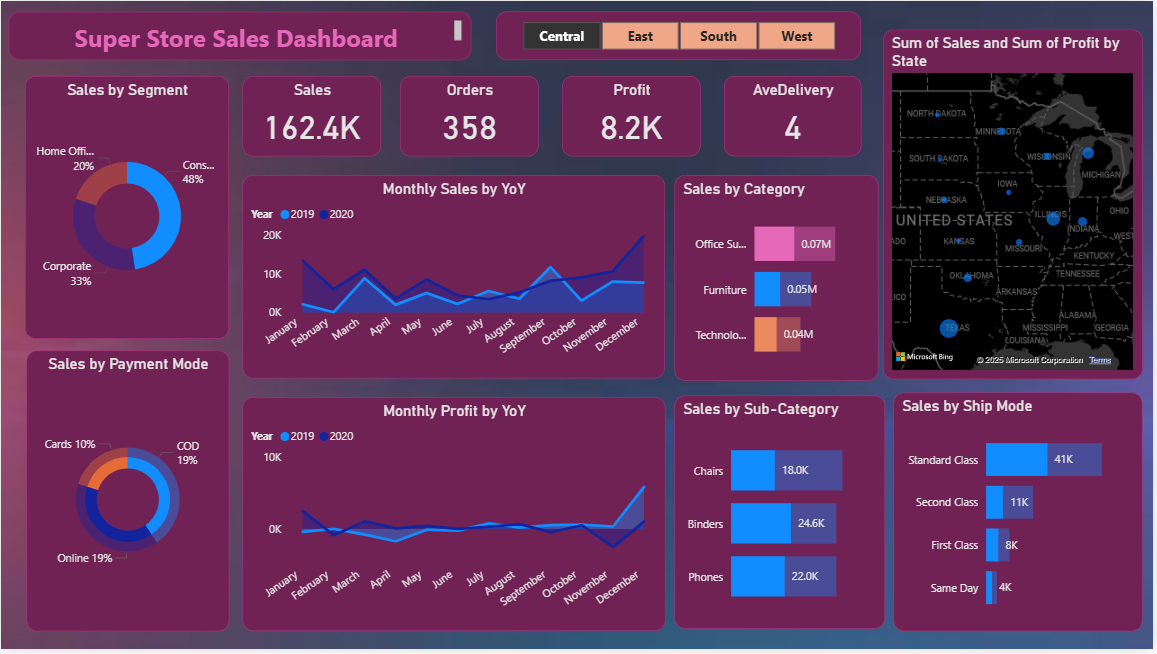

The page's visual inventory and layout, read from the dashboard file:
{"tool":"powerbi","page":{"name":"Page 1","canvas":[1280,720],"ordinal":0},"visuals":[{"type":"clusteredBarChart","title":"Sales by Category","fields":{"Category":["SuperStore_Sales.Category"],"Y":["Sum(SuperStore_Sales.Sales)"]},"box":[748.3,193.3,226.7,228.3],"z":0},{"type":"clusteredBarChart","title":"Sales by Sub-Category","fields":{"Category":["SuperStore_Sales.Sub-Category"],"Y":["Sum(SuperStore_Sales.Sales)"]},"box":[747.6,439,233.8,259.3],"z":1000},{"type":"clusteredBarChart","title":"Sales by Ship Mode","fields":{"Y":["Sum(SuperStore_Sales.Sales)"],"Category":["SuperStore_Sales.Ship Mode"]},"box":[991,434.2,276.8,265.6],"z":2000},{"type":"areaChart","title":"Monthly Sales by YoY","fields":{"Y":["Sum(SuperStore_Sales.Sales)"],"Series":["SuperStore_Sales.Order Date.Variation.Date Hierarchy.Year"],"Category":["SuperStore_Sales.Order Date.Variation.Date Hierarchy.Month","SuperStore_Sales.Order Date.Variation.Date Hierarchy.Day"]},"box":[268.8,194.1,469.2,225.9],"z":3000},{"type":"areaChart","title":"Monthly Profit by YoY","fields":{"Series":["SuperStore_Sales.Order Date.Variation.Date Hierarchy.Year"],"Category":["SuperStore_Sales.Order Date.Variation.Date Hierarchy.Month","SuperStore_Sales.Order Date.Variation.Date Hierarchy.Day"],"Y":["Sum(SuperStore_Sales.Profit)"]},"box":[268.3,440,470,260],"z":4000},{"type":"map","fields":{"Category":["SuperStore_Sales.State"],"Size":["Sum(SuperStore_Sales.Sales)"]},"box":[980,31.7,288.3,388.3],"z":5000},{"type":"donutChart","title":"Sales by Segment","fields":{"Category":["SuperStore_Sales.Segment"],"Y":["Sum(SuperStore_Sales.Sales)"]},"box":[26.7,83.3,226.7,291.7],"z":6000},{"type":"donutChart","title":"Sales by Payment Mode","fields":{"Y":["Sum(SuperStore_Sales.Sales)"],"Category":["SuperStore_Sales.Payment Mode"]},"box":[28.3,388.3,225,311.7],"z":7000},{"type":"slicer","fields":{"Values":["SuperStore_Sales.Region"]},"box":[550.4,11.1,405.6,54.1],"z":8000},{"type":"textbox","box":[8,11.1,513.8,54.1],"z":9000},{"type":"card","title":"Sales","fields":{"Values":["Sum(SuperStore_Sales.Sales)"]},"box":[268.8,82.7,154.3,89.1],"z":10000},{"type":"card","title":"Orders","fields":{"Values":["Count(SuperStore_Sales.Order ID)"]},"box":[443.8,82.7,154.3,89.1],"z":11000},{"type":"card","title":"Profit","fields":{"Values":["Sum(SuperStore_Sales.Profit)"]},"box":[623.5,82.7,154.3,89.1],"z":12000},{"type":"card","title":"AveDelivery","fields":{"Values":["Avg(SuperStore_Sales.AveDelivery)"]},"box":[803.3,82.7,152.7,89.1],"z":13000}]}

Visuals, with their boxes in screenshot pixels (x1, y1, x2, y2), scaled from the page's 1280x720 canvas onto the 1157x654 screenshot:
"Sales by Category" clusteredBarChart: <region>676, 176, 881, 383</region>
"Sales by Sub-Category" clusteredBarChart: <region>676, 399, 887, 634</region>
"Sales by Ship Mode" clusteredBarChart: <region>896, 394, 1146, 636</region>
"Monthly Sales by YoY" areaChart: <region>243, 176, 667, 382</region>
"Monthly Profit by YoY" areaChart: <region>243, 400, 667, 636</region>
map - SuperStore_Sales.State x Sum(SuperStore_Sales.Sales): <region>886, 29, 1146, 382</region>
"Sales by Segment" donutChart: <region>24, 76, 229, 341</region>
"Sales by Payment Mode" donutChart: <region>26, 353, 229, 636</region>
slicer - SuperStore_Sales.Region: <region>498, 10, 864, 59</region>
textbox: <region>7, 10, 472, 59</region>
"Sales" card: <region>243, 75, 382, 156</region>
"Orders" card: <region>401, 75, 541, 156</region>
"Profit" card: <region>564, 75, 703, 156</region>
"AveDelivery" card: <region>726, 75, 864, 156</region>
